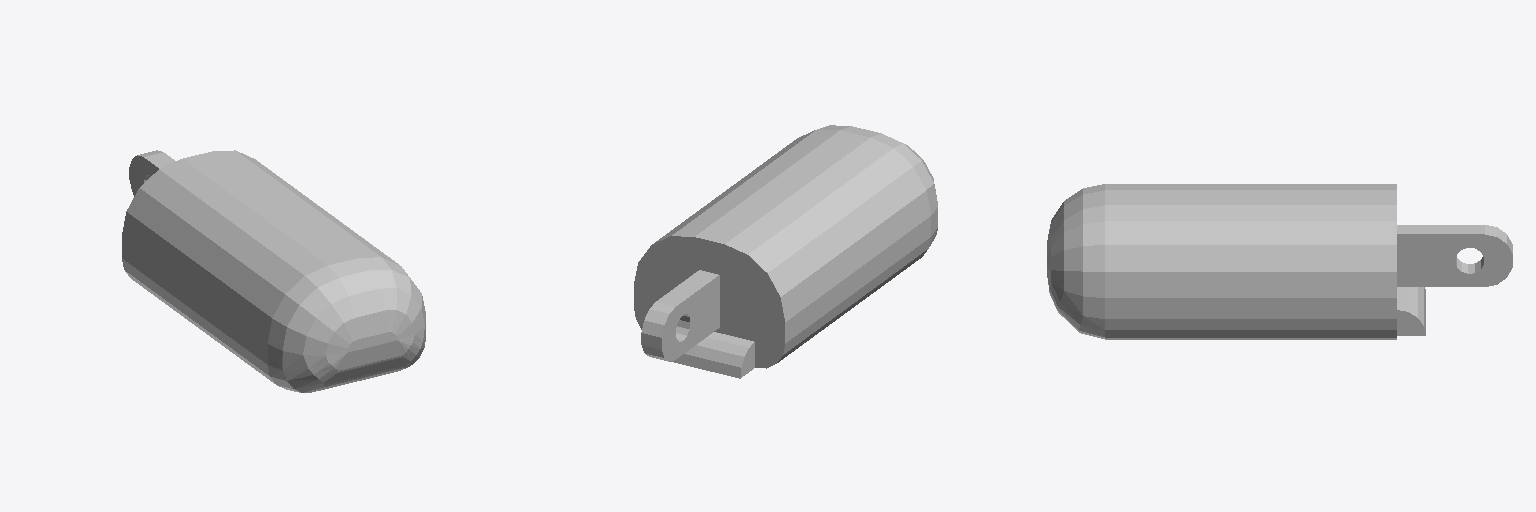
File: fingertop.obj
The picture shows the model from 3 angles: view 1: azimuth 30°, elevation 25°; view 2: azimuth 150°, elevation 25°; view 3: azimuth 270°, elevation 25°; orthographic projection.
Parts seen in each view (by area): view 1: fingertop; view 2: fingertop; view 3: fingertop.
Boxes of the visible parts, x1,y1,x2,y2 form: fingertop: [122, 150, 425, 392]; fingertop: [634, 125, 937, 378]; fingertop: [1047, 184, 1512, 339].
Size of the model in its own units: 15 by 11 by 39.94.